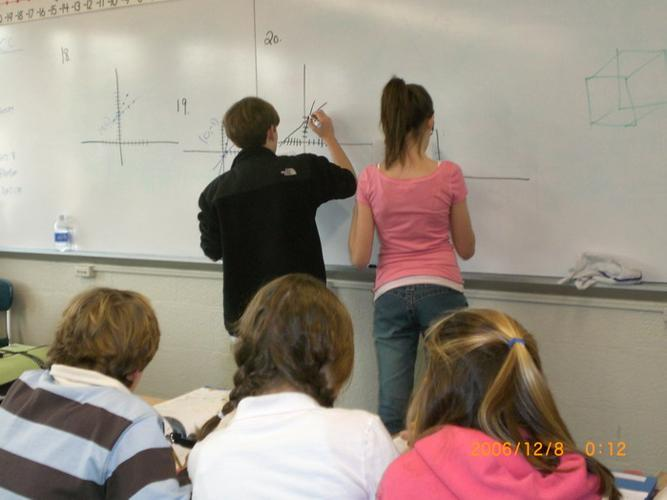person: (348, 78, 477, 432)
